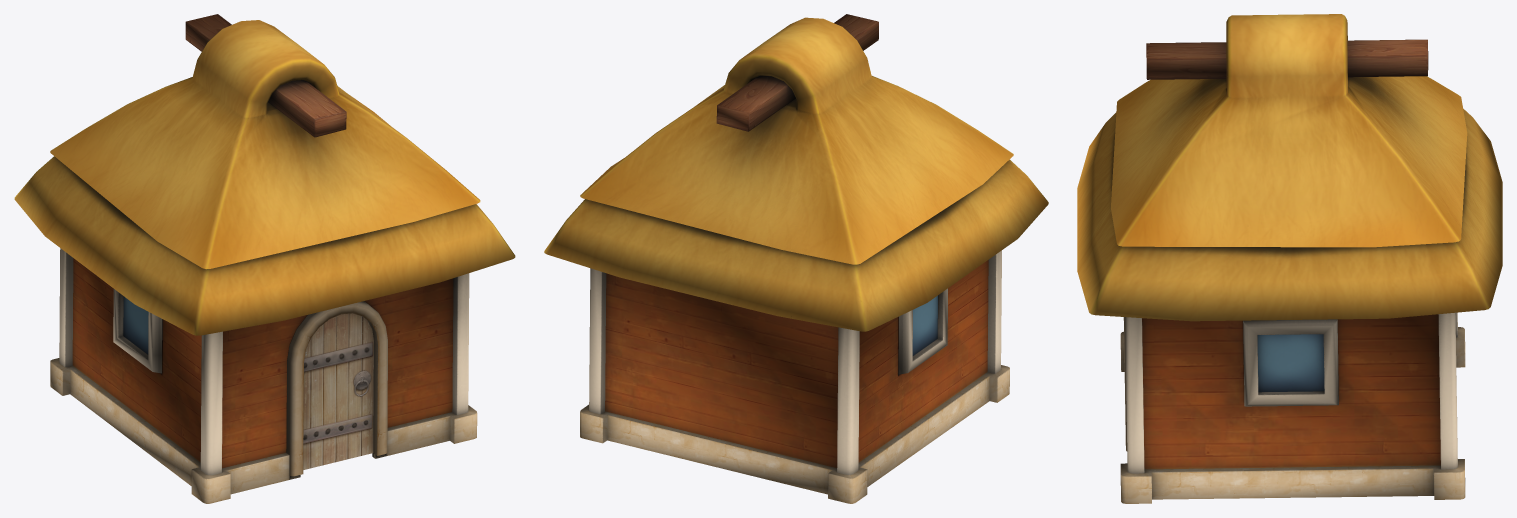
File: Hut_01.fbx
3 views of the same model, side by side, from view 1: azimuth 30°, elevation 25°; view 2: azimuth 150°, elevation 25°; view 3: azimuth 270°, elevation 25° (orthographic). The views are drawn at different scales.
Visible parts, largest first — view 1: Hut; view 2: Hut; view 3: Hut.
Part boxes in pixels (bbox=[...]): Hut: bbox=[14, 14, 515, 503]; Hut: bbox=[544, 14, 1048, 503]; Hut: bbox=[1077, 14, 1502, 503].
Bounding box in the file's own units: 332 × 341 × 319.
